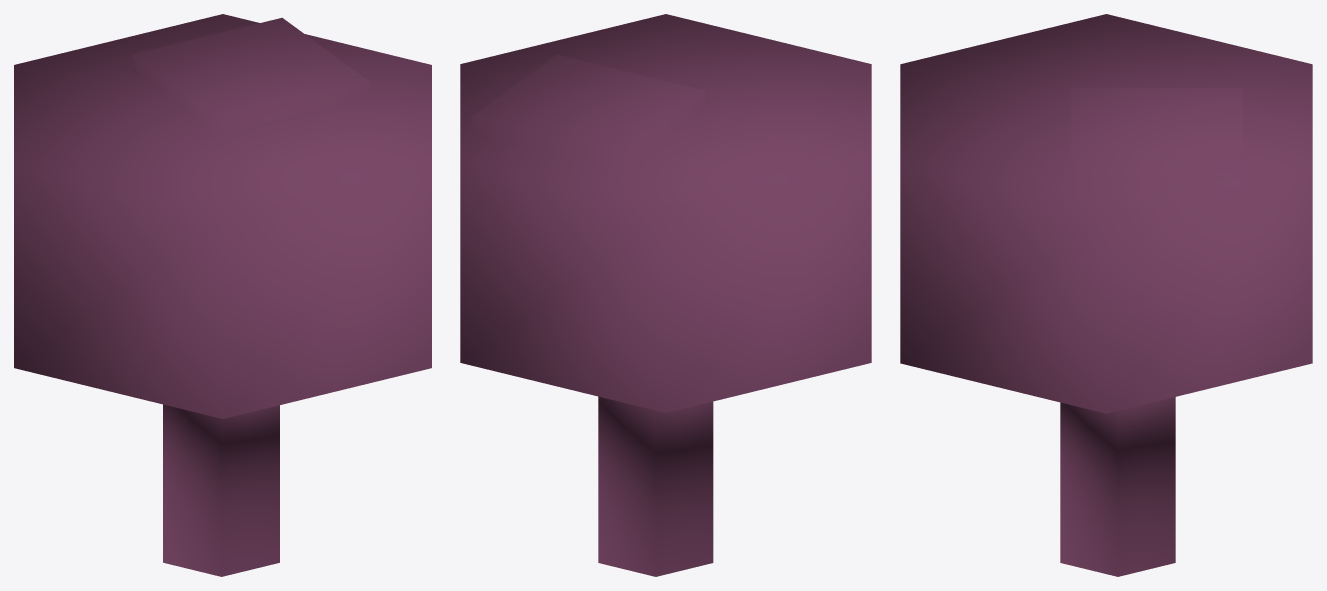
Rendered from ps2_jrpg_forest_underbrush_thorn_cluster.obj.
The picture shows the model from 3 angles, left to right: view 1: azimuth 30°, elevation 25°; view 2: azimuth 150°, elevation 25°; view 3: azimuth 270°, elevation 25°; orthographic projection.
Bounding box in the file's own units: 2 × 2.08 × 1.73.
